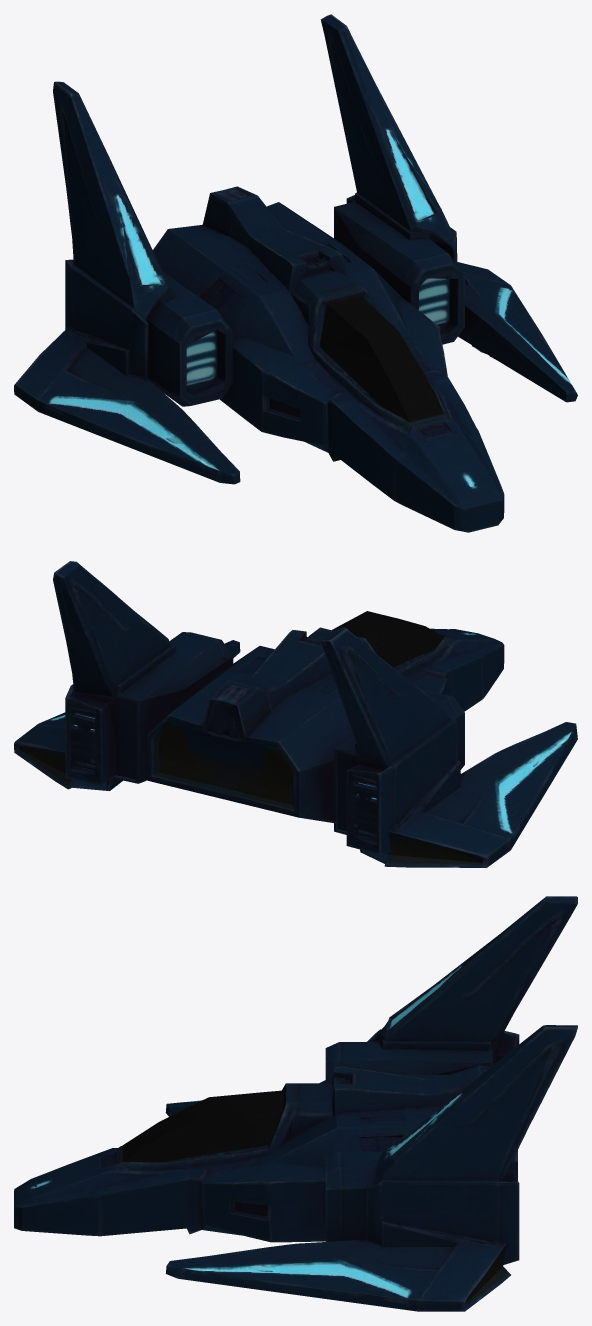
Rendered from nave_22.obj.
3 views of the same model, one above another, from view 1: azimuth 30°, elevation 25°; view 2: azimuth 150°, elevation 25°; view 3: azimuth 270°, elevation 25° (orthographic). The views are drawn at different scales.
Parts seen in each view (by area): view 1: geometry_0; view 2: geometry_0; view 3: geometry_0.
Part boxes in pixels (x1=…): geometry_0: x1=14, y1=14, x2=577, y2=532; geometry_0: x1=14, y1=561, x2=577, y2=867; geometry_0: x1=14, y1=896, x2=577, y2=1311.
Bounding box in the file's own units: 6.56 × 3.55 × 7.
1 material, 1 textured.
